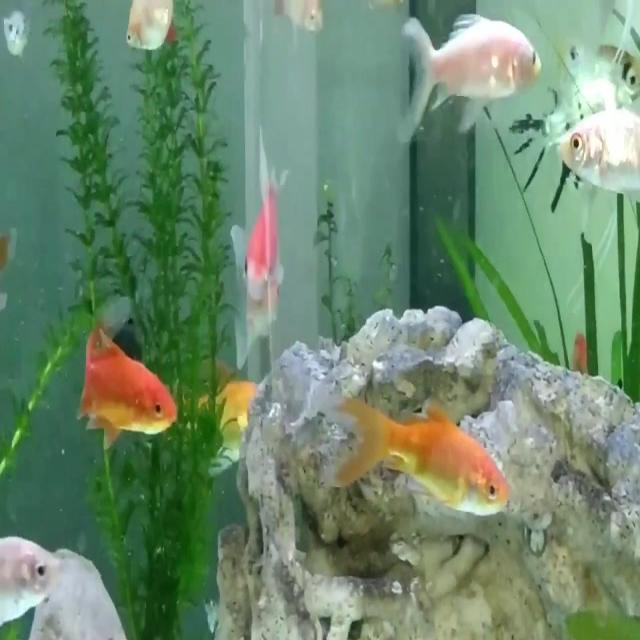GoldFish: (333, 381, 515, 531), (73, 324, 191, 461)
